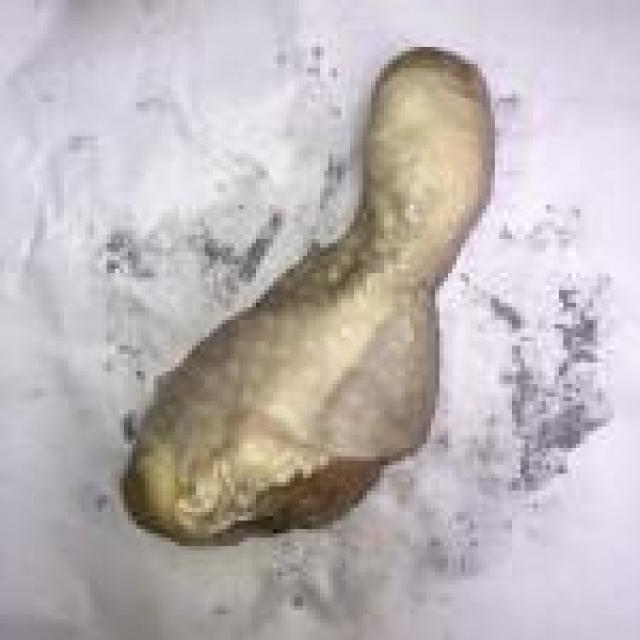leg: (124, 47, 503, 551)
